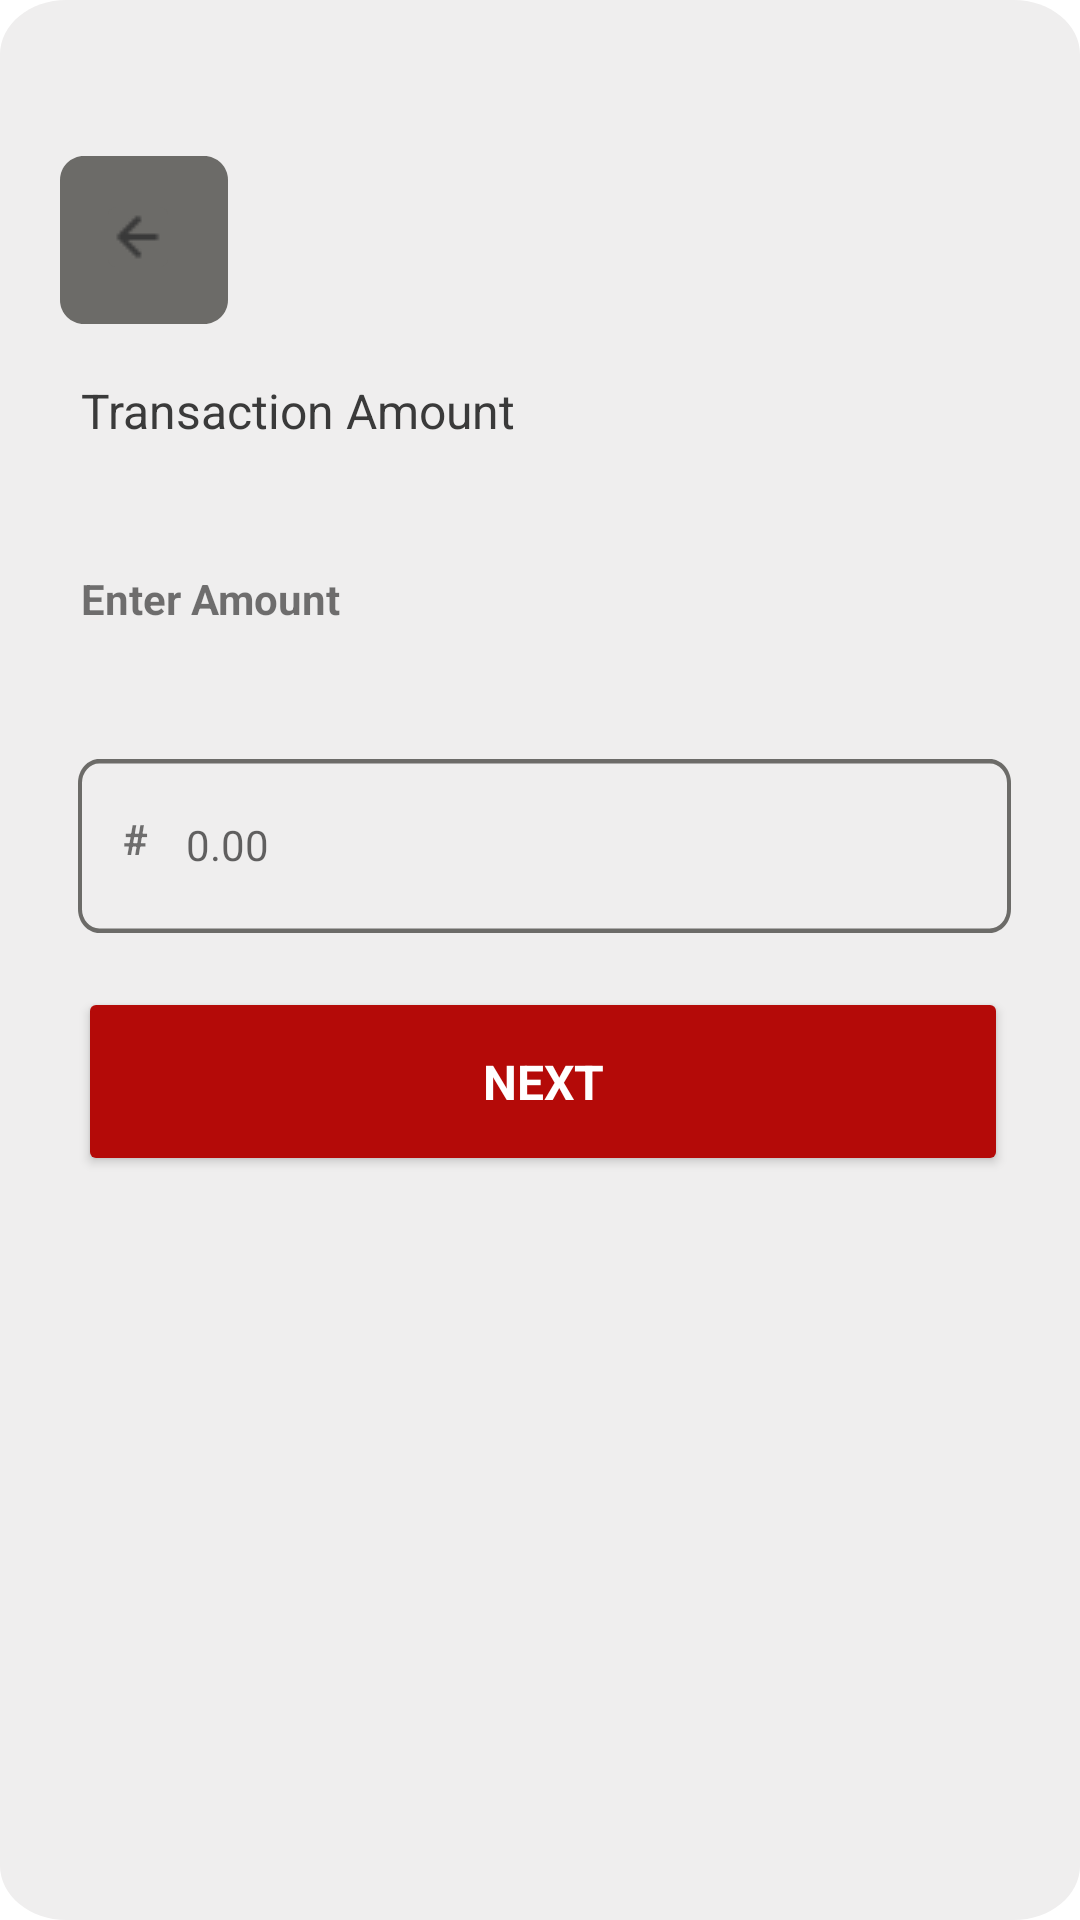

Screen size 1080×1920. Icon name, then its center in pixels as [x,y]:
Back icon: [138,237]
